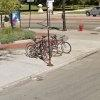Bicycle: (23, 32, 77, 67)
